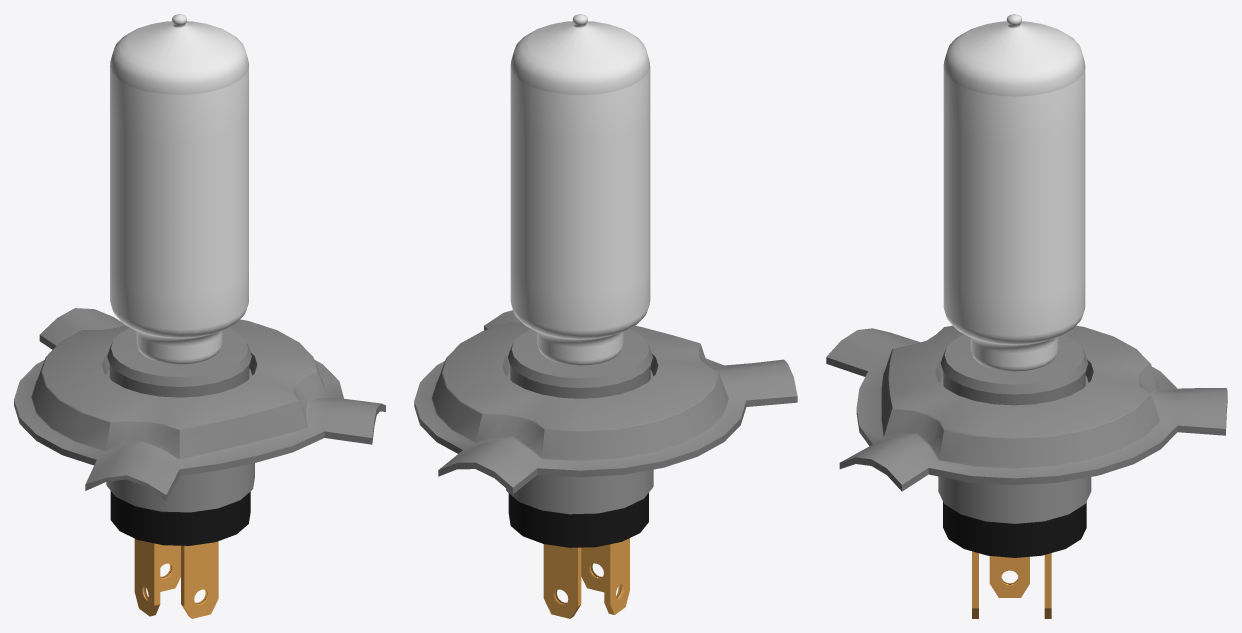
File: lampu.glb
3 views of the same model, side by side, from view 1: azimuth 30°, elevation 25°; view 2: azimuth 150°, elevation 25°; view 3: azimuth 270°, elevation 25° (orthographic). The views are drawn at different scales.
Visible parts, largest first — view 1: Cylinder, Cylinder.001, Cylinder.003, Cylinder.002, Cube, Cube.002, Cube.001; view 2: Cylinder, Cylinder.001, Cylinder.003, Cylinder.002, Cube.001, Cube.002, Cube; view 3: Cylinder, Cylinder.001, Cylinder.002, Cylinder.003, Cube.002.
Part boxes in pixels (box(x1,y1,x2,y2)): Cylinder: box(110, 14, 248, 364); Cylinder.001: box(14, 308, 385, 501); Cylinder.003: box(110, 491, 250, 545); Cylinder.002: box(106, 463, 254, 512); Cube: box(181, 541, 218, 618); Cube.002: box(134, 539, 160, 616); Cube.001: box(160, 544, 180, 591); Cylinder: box(510, 14, 650, 365); Cylinder.001: box(414, 310, 797, 493); Cylinder.003: box(508, 493, 648, 547); Cylinder.002: box(506, 469, 653, 514); Cube.001: box(543, 544, 581, 618); Cube.002: box(604, 538, 629, 614); Cube: box(581, 545, 604, 592); Cylinder: box(943, 14, 1085, 371); Cylinder.001: box(826, 325, 1227, 491); Cylinder.002: box(938, 476, 1091, 523); Cylinder.003: box(943, 502, 1086, 557); Cube.002: box(989, 556, 1029, 597).
Size of the model in its own units: 0.46 by 0.8414 by 0.5116.
